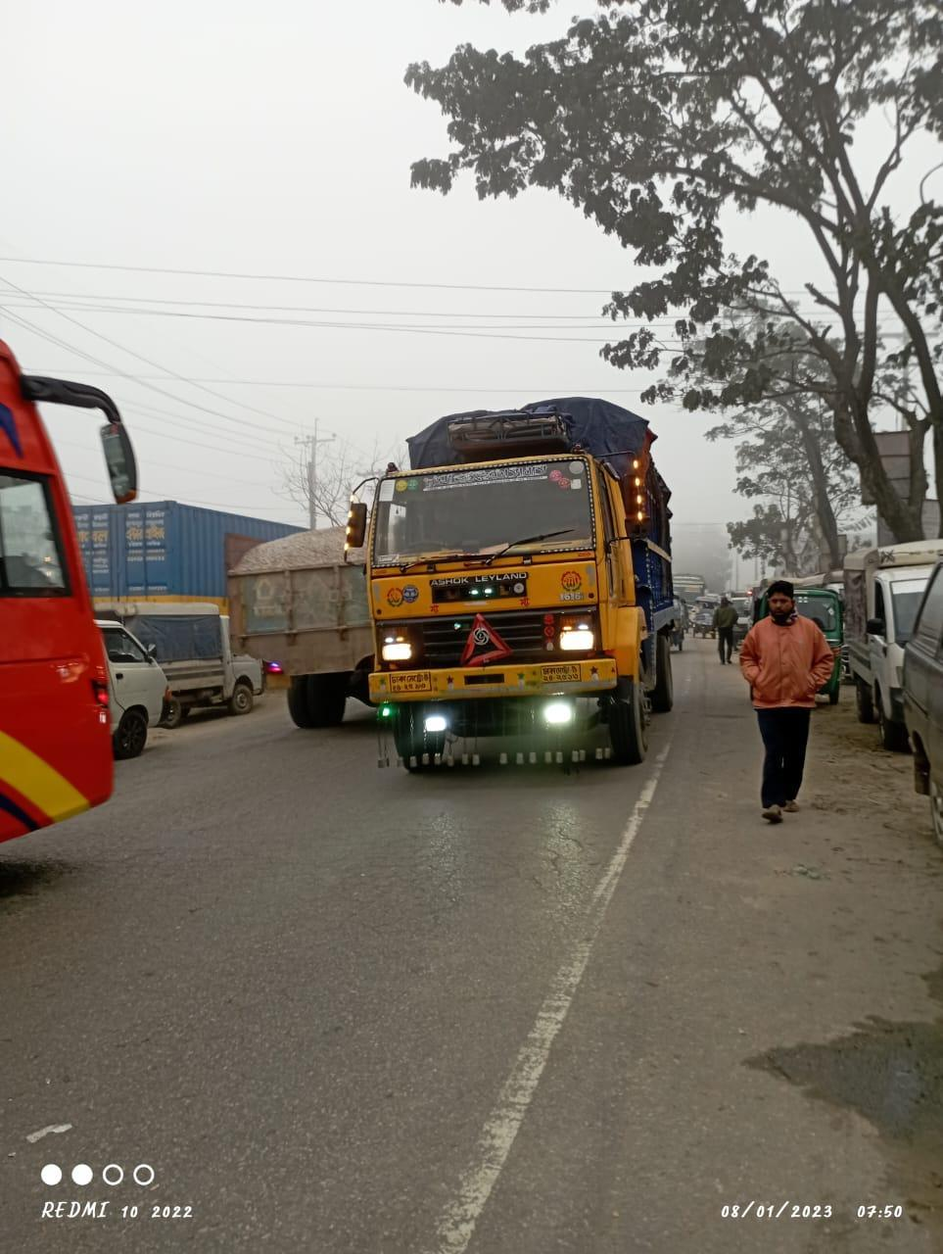Bus: (1, 325, 138, 891)
Car: (834, 517, 929, 757), (110, 603, 181, 781)
Truck: (347, 388, 686, 769), (215, 514, 382, 725)
